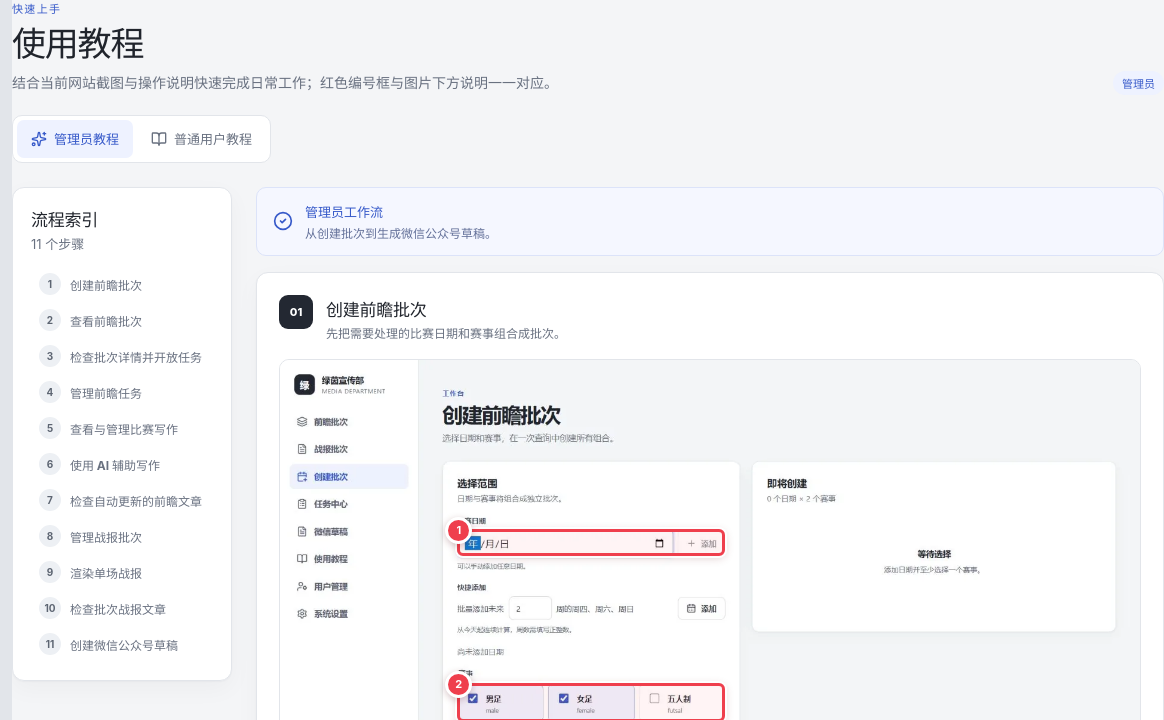
Test case: role-aware tutorial › shows both role tutorials to administrators
Expected: the text "管理员工作流" is shown, [305, 204, 383, 220]
Expected: the element with class "tutorial-figure__marker" showing "1" is shown, [457, 529, 725, 556]
Step 1. Click the tab "普通用户教程" → (202, 138), box [137, 120, 266, 158]
(page scrolled)
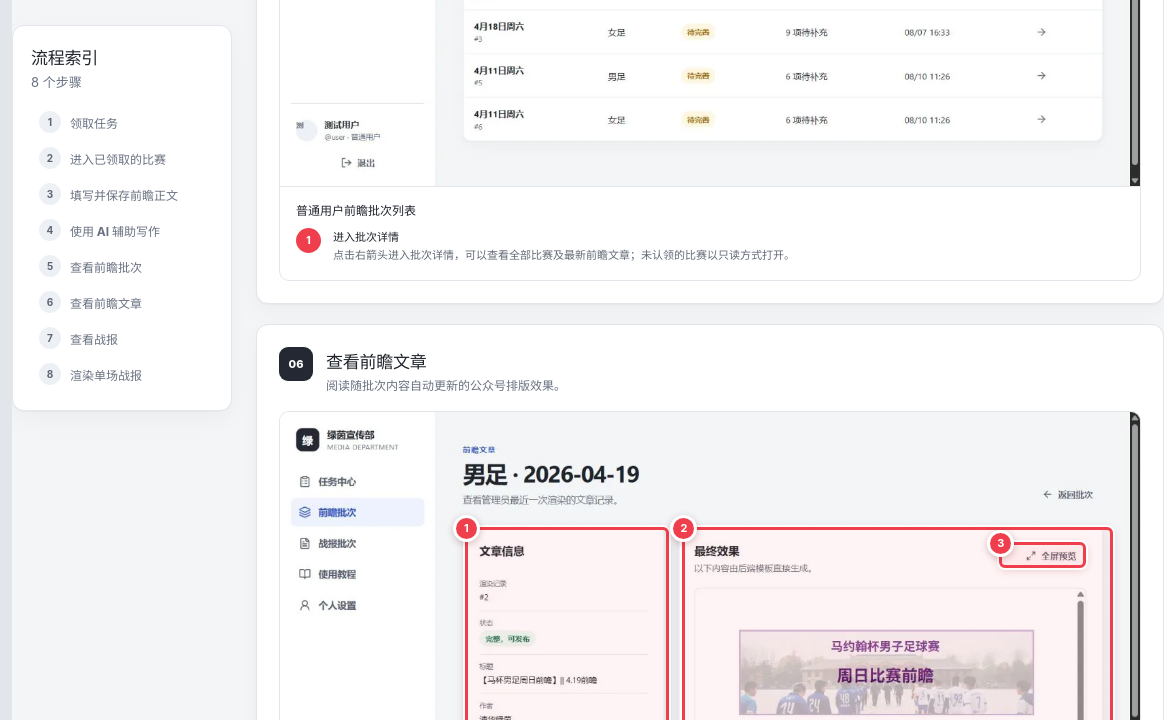
Now the text "8 个步骤" is shown, box [31, 73, 82, 89]
Now the heading "查看前瞻文章" is shown, box [326, 352, 426, 372]
Now the number of pictures is 10
